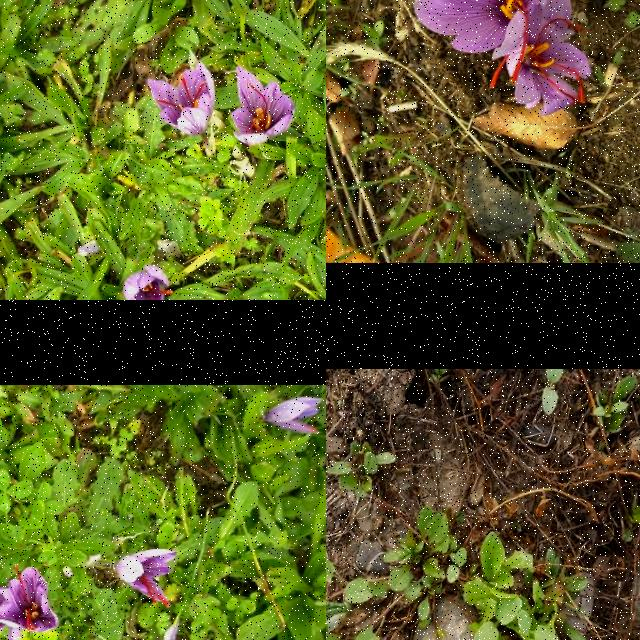flower: (148, 62, 216, 142), (230, 68, 294, 144), (116, 550, 178, 606), (263, 396, 326, 434), (123, 267, 174, 300)
overlap: (412, 0, 589, 116), (0, 565, 58, 640)
